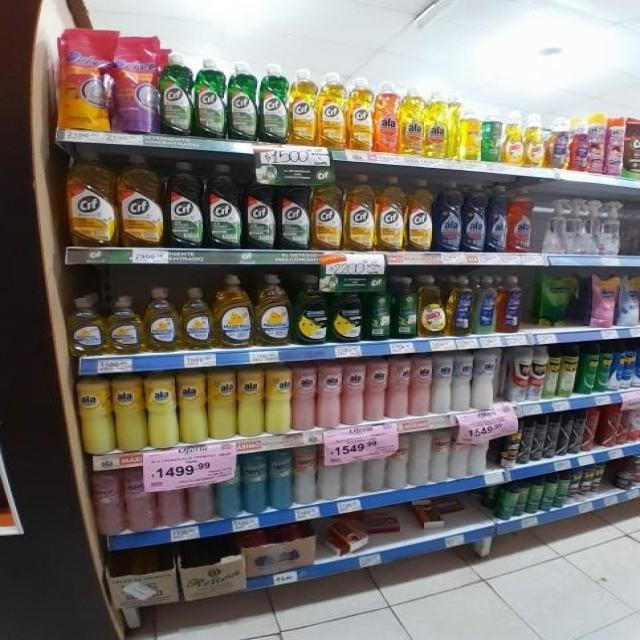ala_conc_amarillo: (425, 86, 454, 158), (399, 84, 424, 156)
ala_conc_azul: (434, 180, 462, 252), (464, 182, 486, 253), (487, 184, 508, 252)
ala_conc_rojo: (374, 80, 398, 154), (509, 186, 534, 254)
ala_crem_amarillo: (77, 376, 111, 455), (112, 375, 144, 452), (146, 375, 177, 449), (179, 372, 207, 444), (208, 370, 236, 441), (237, 369, 264, 437), (265, 367, 292, 434)
ala_crem_blanco: (473, 349, 498, 409), (432, 354, 452, 414), (453, 352, 472, 412)
ala_crem_rosado: (318, 363, 342, 429), (293, 365, 315, 431), (342, 361, 363, 426), (365, 359, 386, 423)
cif_conc_bot_amarilla: (66, 150, 116, 248), (118, 154, 164, 249), (312, 171, 343, 250), (345, 173, 375, 251), (290, 68, 318, 147), (318, 71, 346, 149), (377, 175, 405, 252), (407, 177, 433, 252), (347, 77, 373, 151)
cif_conc_botella_verde: (167, 160, 204, 249), (206, 164, 242, 249), (243, 166, 276, 250), (160, 52, 192, 137), (278, 168, 310, 251), (194, 56, 226, 139), (228, 60, 258, 142), (259, 63, 288, 144)
drive: (57, 27, 111, 131)
heroe: (93, 471, 123, 535), (242, 452, 268, 514), (216, 455, 241, 518), (393, 278, 418, 339), (269, 449, 293, 510), (294, 445, 317, 505)
magistral_con_amarillo: (255, 273, 292, 347), (215, 275, 252, 349), (144, 286, 179, 353), (67, 296, 105, 357), (106, 295, 142, 355), (181, 286, 214, 351)
zorro: (448, 275, 473, 336), (499, 275, 523, 333), (474, 275, 497, 335)
